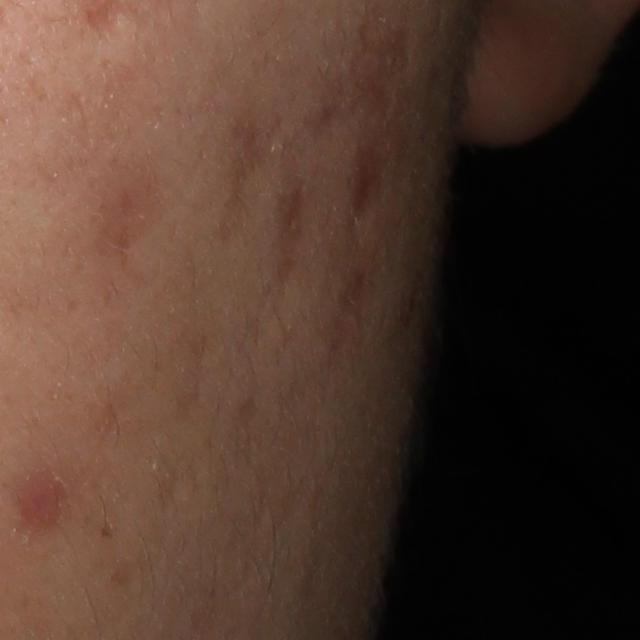atrophic_scar: (213, 121, 281, 245), (92, 146, 164, 258), (275, 174, 314, 283), (344, 142, 382, 223)
